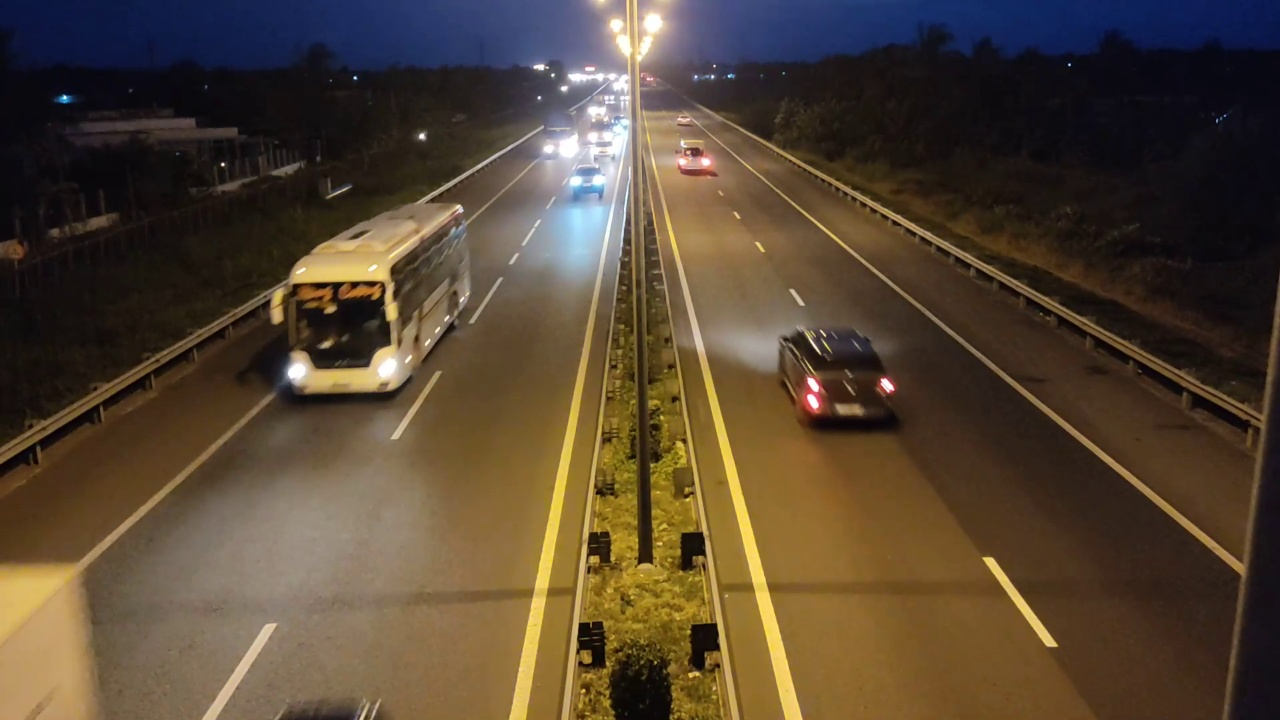bus: (277, 201, 473, 400)
car: (776, 325, 899, 430), (566, 165, 606, 201), (676, 141, 717, 176)
